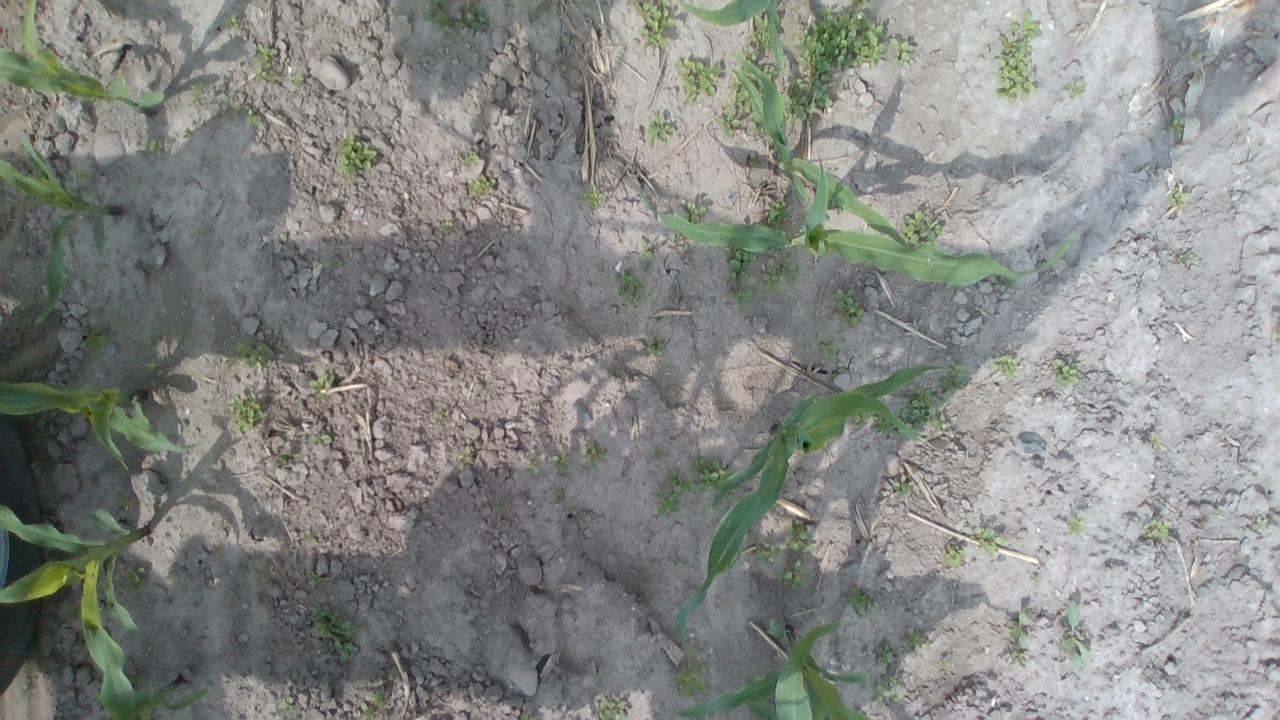Maize: (673, 362, 962, 646), (636, 151, 1078, 289), (723, 56, 914, 256), (3, 504, 150, 714), (0, 132, 126, 327), (662, 618, 882, 720), (1, 0, 163, 122), (0, 380, 208, 472), (676, 1, 784, 78), (120, 673, 216, 720)
Weeds: (718, 1, 917, 134), (723, 197, 800, 307), (865, 364, 967, 446), (996, 8, 1046, 100), (300, 595, 358, 660), (626, 0, 671, 55), (870, 641, 907, 701), (674, 59, 724, 100), (252, 43, 302, 84), (676, 641, 710, 701), (333, 132, 375, 180), (902, 206, 948, 248), (426, 1, 491, 30), (672, 202, 709, 252), (684, 458, 730, 498), (54, 588, 102, 626), (1060, 605, 1088, 670), (220, 341, 276, 370), (1004, 612, 1036, 662), (223, 395, 263, 428), (656, 470, 684, 516), (833, 289, 864, 328), (972, 524, 1004, 559), (649, 111, 680, 147), (837, 586, 879, 612), (780, 560, 816, 590), (186, 83, 226, 110), (84, 322, 115, 356), (787, 520, 815, 556), (113, 564, 149, 592), (584, 442, 613, 476), (904, 624, 931, 655), (992, 352, 1024, 378), (616, 271, 640, 302), (818, 336, 842, 367), (308, 374, 334, 402), (641, 336, 670, 360), (1054, 358, 1082, 381), (1064, 78, 1092, 101), (603, 698, 632, 720), (638, 241, 656, 276), (1166, 118, 1190, 142), (1142, 520, 1174, 538), (144, 140, 167, 164), (238, 106, 262, 129), (1064, 516, 1088, 538), (942, 545, 966, 566), (581, 187, 603, 207), (552, 452, 571, 474), (756, 540, 778, 559), (469, 174, 489, 194), (1180, 250, 1202, 268), (486, 506, 506, 524), (276, 694, 296, 712), (364, 694, 382, 714), (1249, 513, 1269, 531), (892, 476, 911, 494), (308, 434, 334, 446), (1172, 191, 1192, 206), (459, 445, 472, 467), (457, 151, 476, 166), (223, 18, 241, 33), (300, 527, 315, 545), (440, 220, 458, 235), (273, 453, 291, 467), (429, 412, 442, 424), (526, 455, 535, 472), (1148, 434, 1156, 443)
